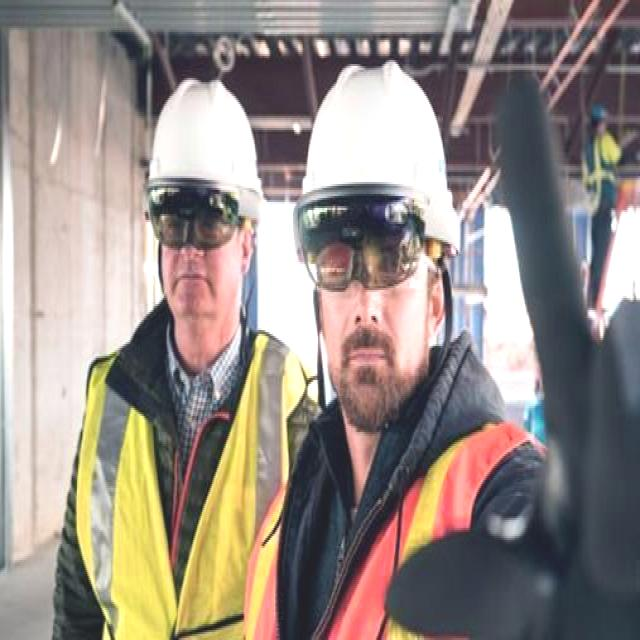face_nomask: (314, 240, 437, 422), (148, 198, 244, 328)
glasses: (294, 188, 436, 294), (144, 181, 245, 255)
head_helmet: (300, 62, 450, 212), (145, 78, 263, 194)
person: (248, 58, 549, 636), (57, 78, 299, 634)
vest: (249, 418, 554, 636), (88, 328, 288, 628)
